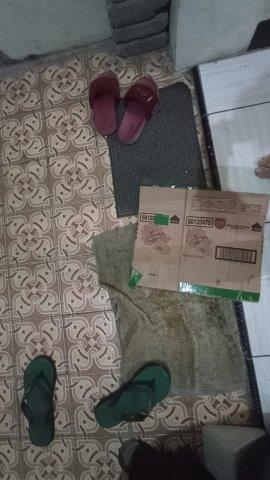kardus: (133, 187, 269, 303)
